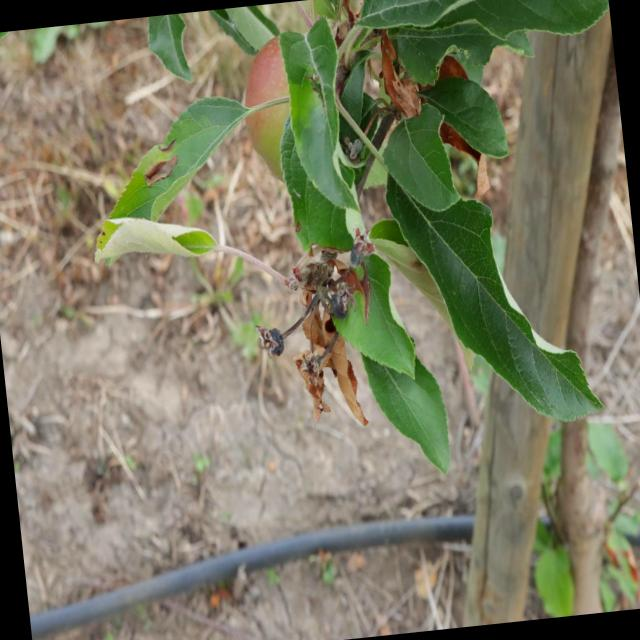-FireBlight-: (299, 288, 365, 428)
